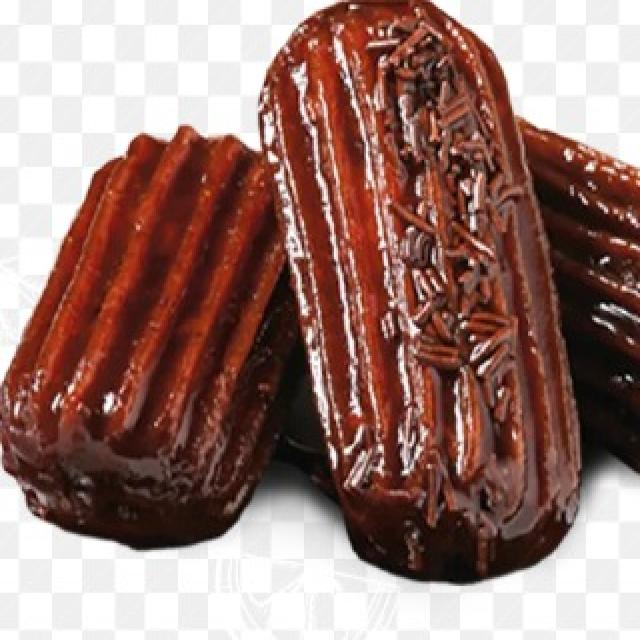yan_yemek: (0, 0, 638, 586)
